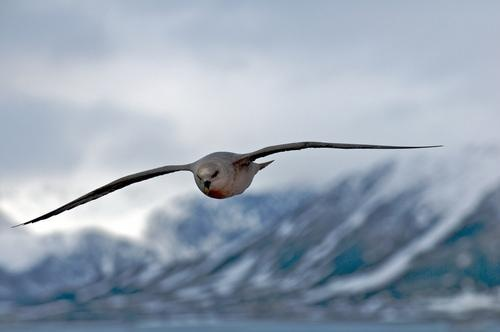bird: (12, 140, 446, 232)
